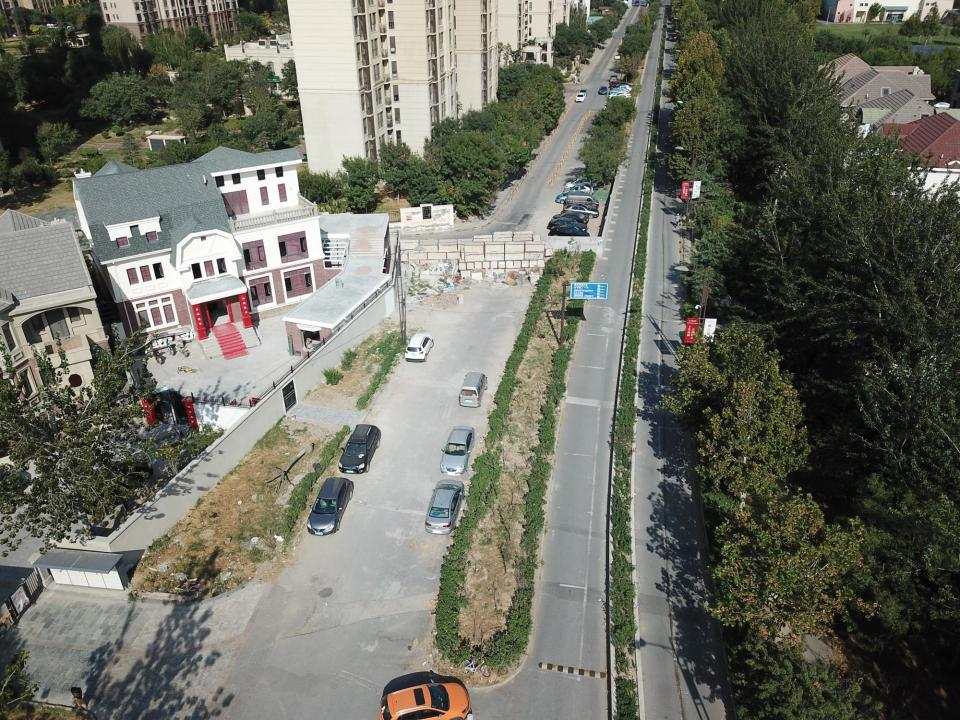bus: (633, 1, 640, 6)
car: (378, 682, 470, 720), (306, 477, 353, 536), (424, 479, 465, 534), (338, 423, 381, 475), (439, 424, 476, 476), (404, 333, 434, 363), (549, 224, 590, 241), (547, 216, 589, 232), (563, 201, 599, 219), (565, 174, 598, 190), (561, 182, 594, 198), (555, 189, 590, 204), (551, 211, 589, 224), (608, 90, 630, 98), (609, 82, 632, 89), (608, 92, 630, 99), (609, 83, 630, 90), (609, 87, 630, 94), (609, 79, 627, 87), (614, 85, 632, 92), (597, 85, 608, 95), (575, 93, 586, 102), (609, 74, 618, 83), (579, 88, 587, 96), (613, 53, 622, 59), (641, 2, 646, 7)
van: (458, 371, 488, 408), (566, 191, 599, 210)
